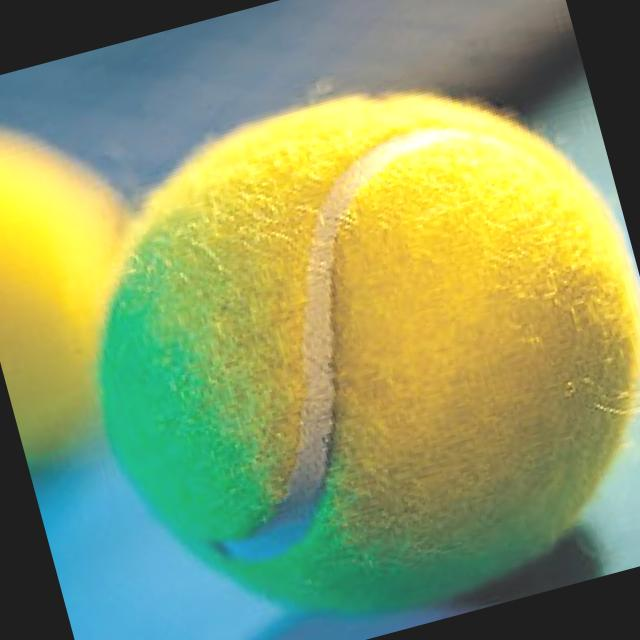Tennis Ball: (94, 92, 640, 620), (0, 130, 131, 462)
